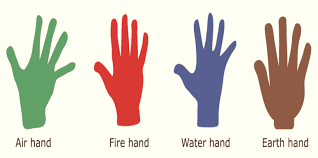palm: (264, 66, 303, 119)
